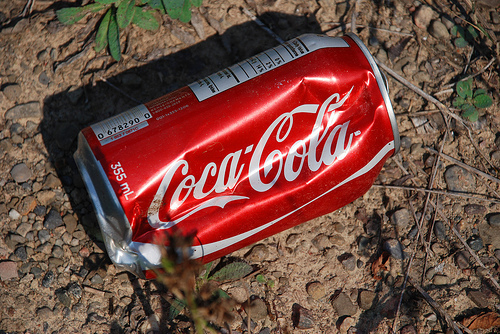litter: (72, 30, 402, 281)
